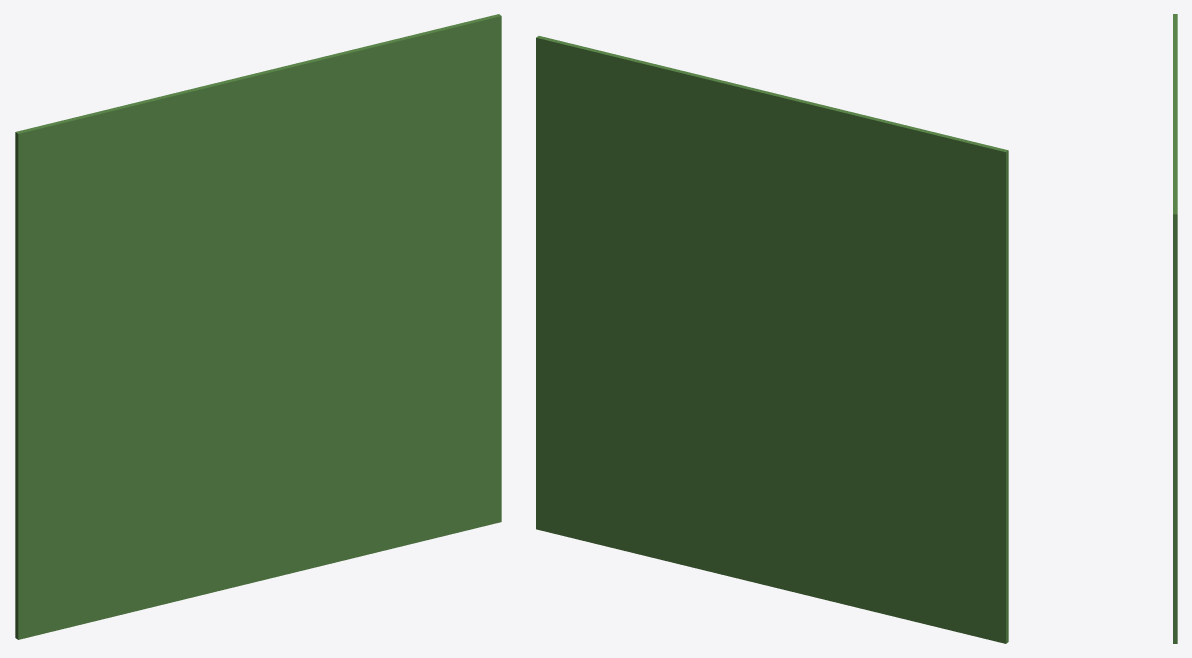
File: grass_dense.glb
3 views of the same model, side by side, from view 1: azimuth 30°, elevation 25°; view 2: azimuth 150°, elevation 25°; view 3: azimuth 270°, elevation 25° (orthographic). The views are drawn at different scales.
Parts seen in each view (by area): view 1: geometry_0; view 2: geometry_0; view 3: geometry_0.
Boxes of the visible parts, x1,y1,x2,y2 form: geometry_0: [15, 14, 501, 639]; geometry_0: [536, 36, 1008, 643]; geometry_0: [1173, 14, 1177, 643].
Size of the model in its own units: 1.01 by 1.01 by 0.2096.
